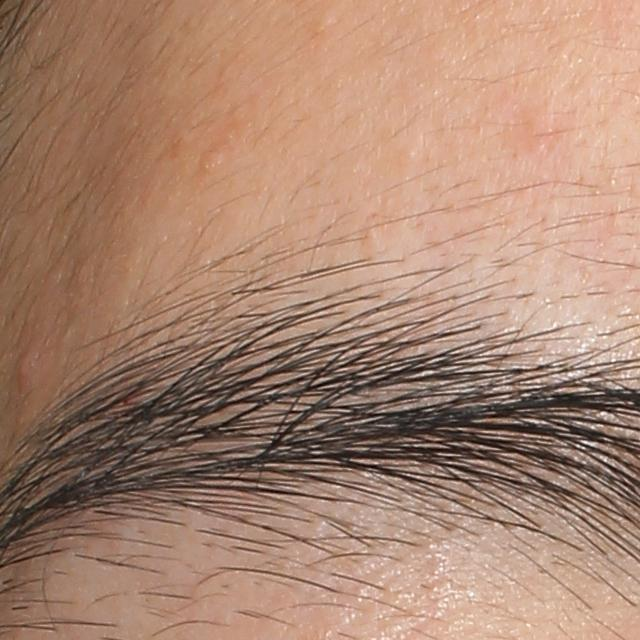papule: (12, 337, 44, 389)
